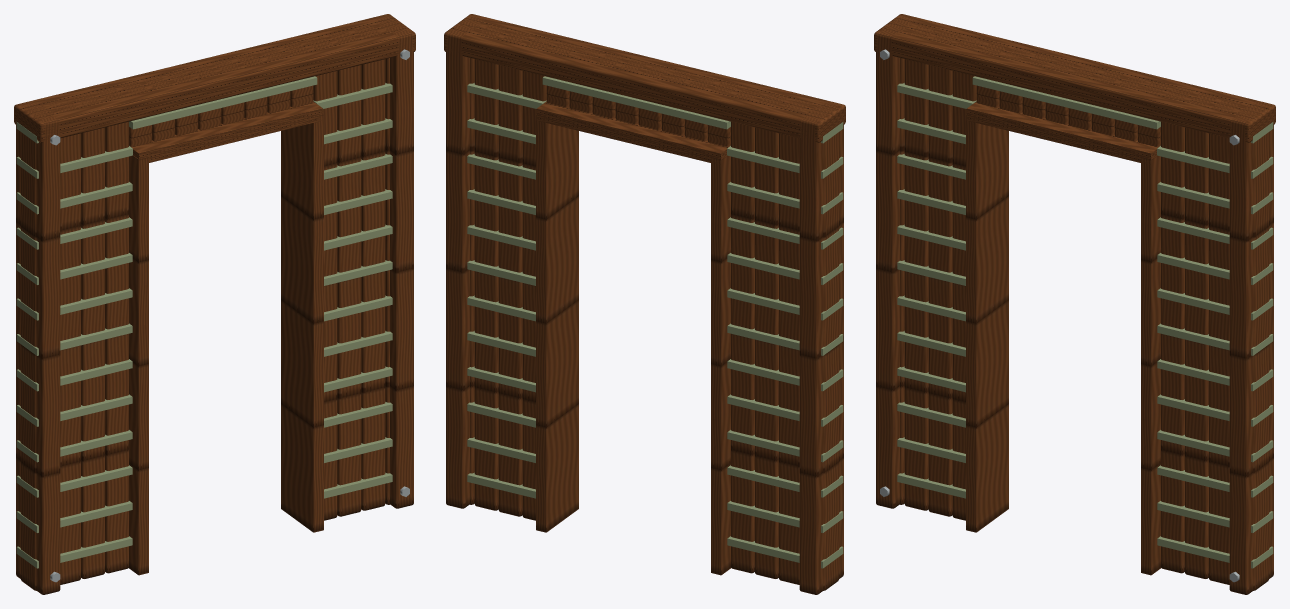
The model's file is prehistoric-survivor-settlement-woven-door-wall-bdf9bfd9__23161.glb.
3 renders of one model, left to right at view 1: azimuth 30°, elevation 25°; view 2: azimuth 150°, elevation 25°; view 3: azimuth 330°, elevation 25°, orthographic.
Parts seen in each view (by area): view 1: woven-door-wall; view 2: woven-door-wall; view 3: woven-door-wall.
Boxes of the visible parts, bbox=[...] form: woven-door-wall: bbox=[14, 14, 415, 594]; woven-door-wall: bbox=[444, 14, 845, 594]; woven-door-wall: bbox=[874, 14, 1275, 594].
Bounding box in the file's own units: 2 × 2.4 × 0.3.
Materials: 3 (1 with a texture image).
